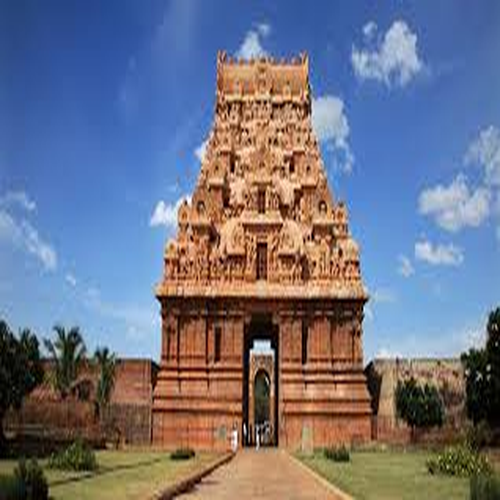Temple: (151, 47, 375, 432)
